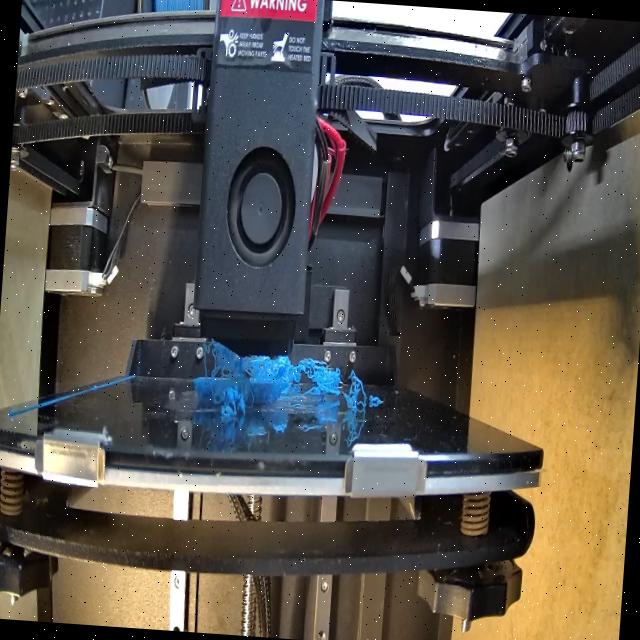spaghetti: (250, 352, 350, 398), (208, 340, 252, 420), (346, 372, 372, 416)
